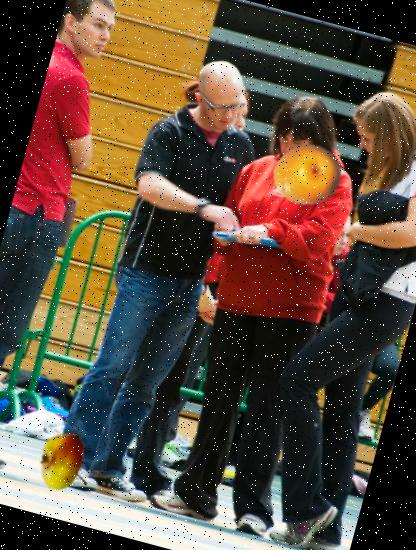Apple: (29, 427, 104, 502)
Kumquats: (265, 134, 350, 218)
